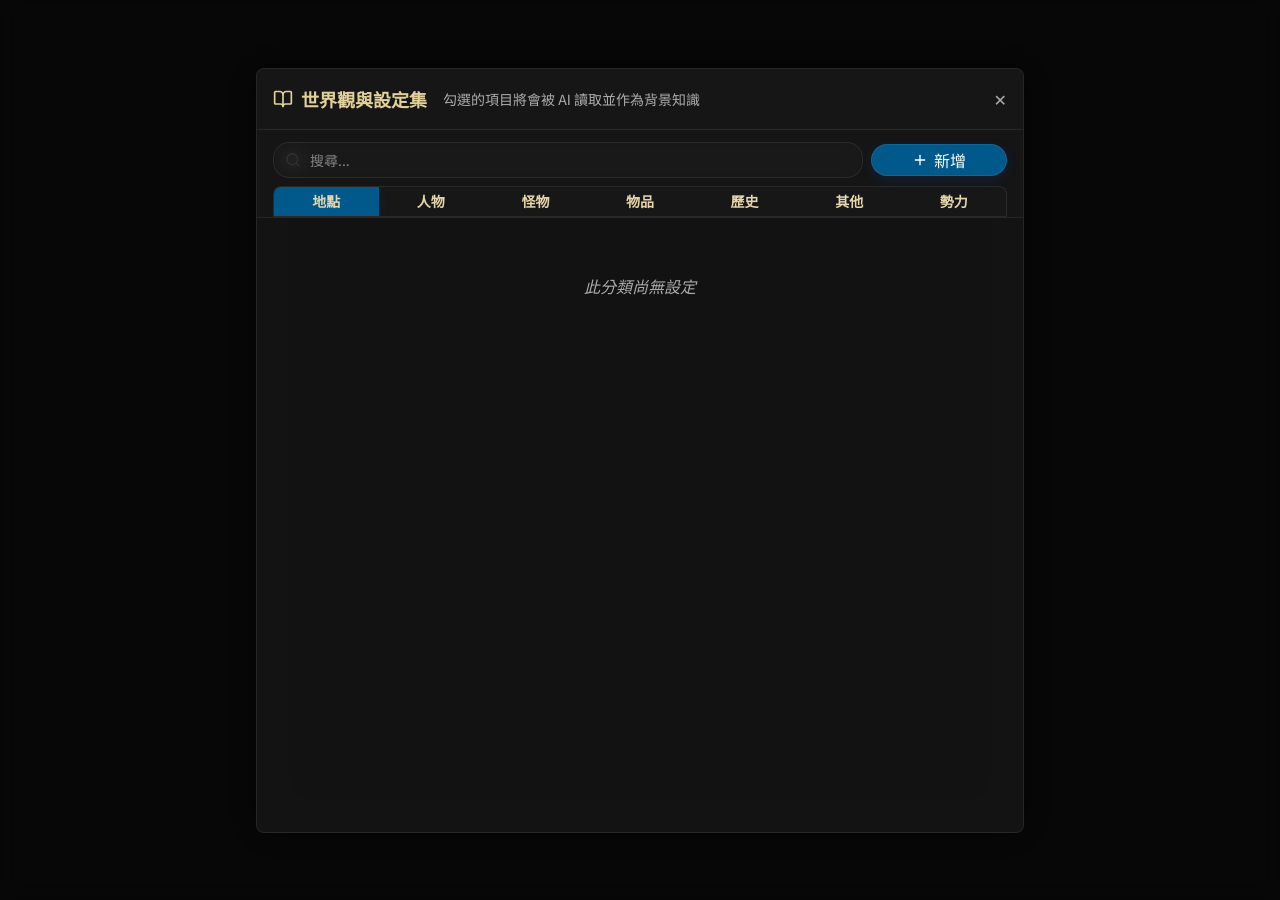
Test: LorebookModal 勢力敵友關係 › 顯示既有關係
This screenshot has width=1280, height=900.
What coordinates should you click on to do the following:
click the button "勢力"
I would click on:
 (954, 201)
Its box is [902,186,1006,216].
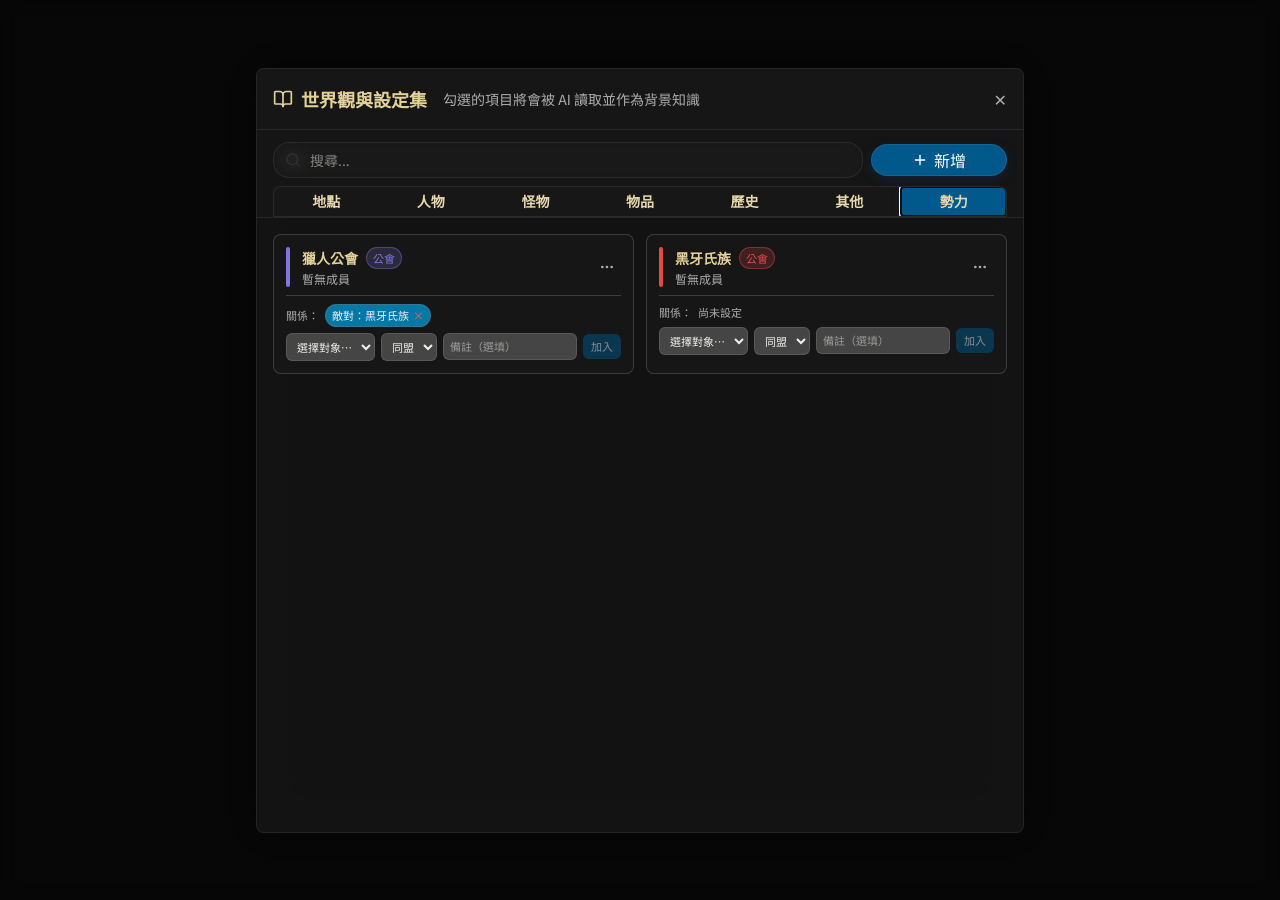
expect the text "敵對：黑牙氏族 ×" is shown: met, box [325,304,431,326]
